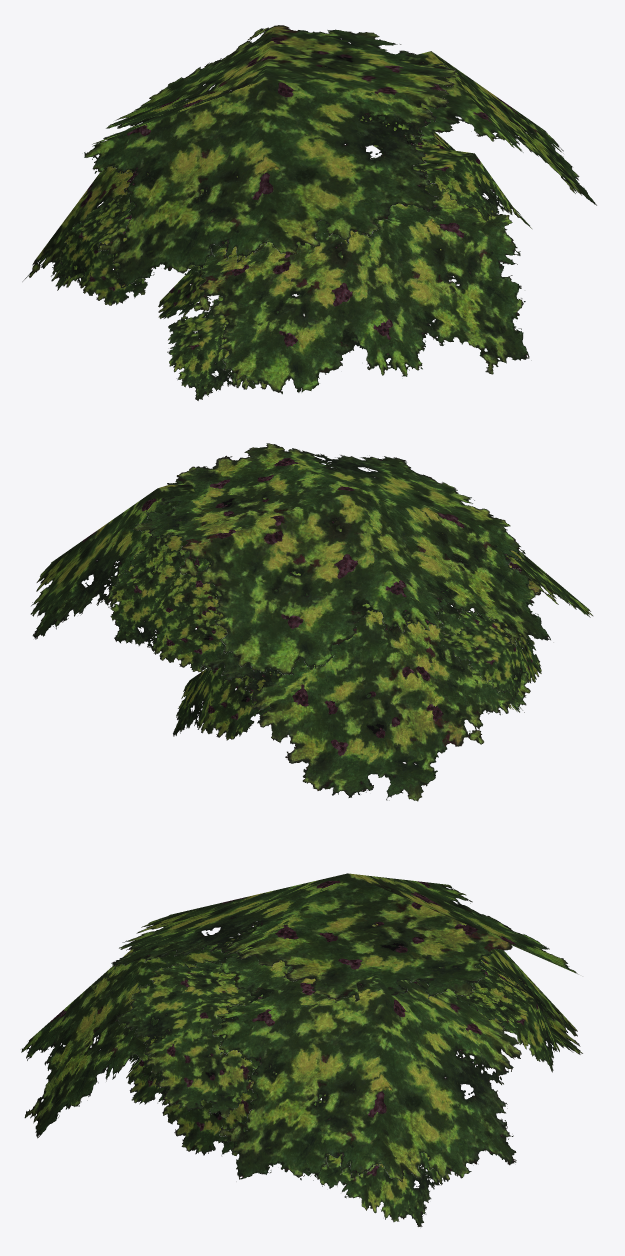
Rendered from tree_leaf_100m.DAE.
The picture shows the model from 3 angles, top to bottom: view 1: azimuth 30°, elevation 25°; view 2: azimuth 150°, elevation 25°; view 3: azimuth 270°, elevation 25°; orthographic projection. The views are drawn at different scales.
Parts seen in each view (by area): view 1: Object04; view 2: Object04; view 3: Object04.
Boxes of the visible parts, <box> form: Object04: <box>22,25,596,400</box>; Object04: <box>30,443,593,801</box>; Object04: <box>21,873,582,1226</box>.
Bounding box in the file's own units: 190 × 96.84 × 182.
